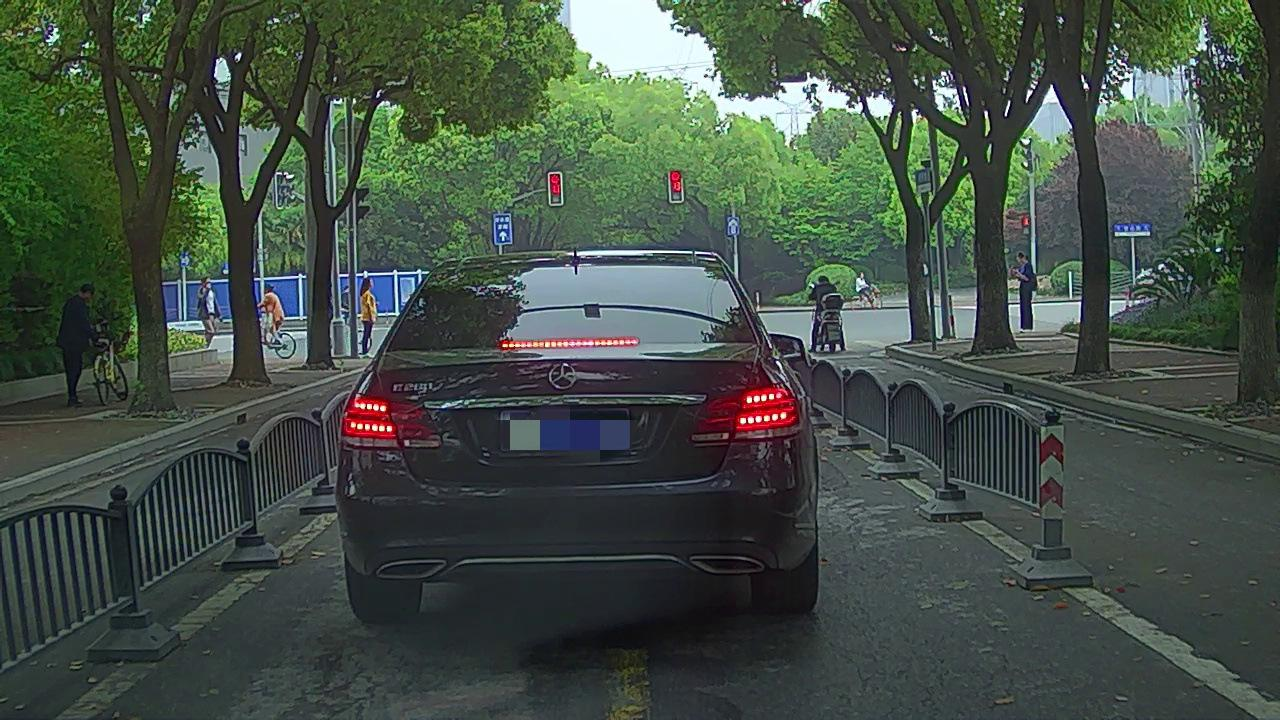traffic_light: (669, 169, 683, 201), (550, 174, 561, 204)
